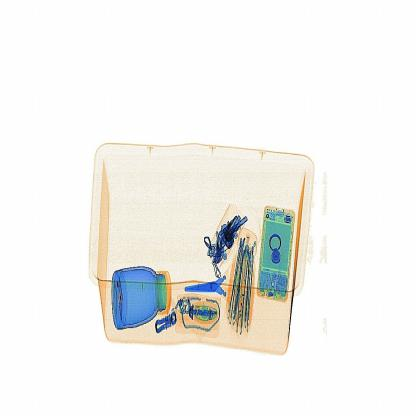gun: (178, 264, 250, 314)
